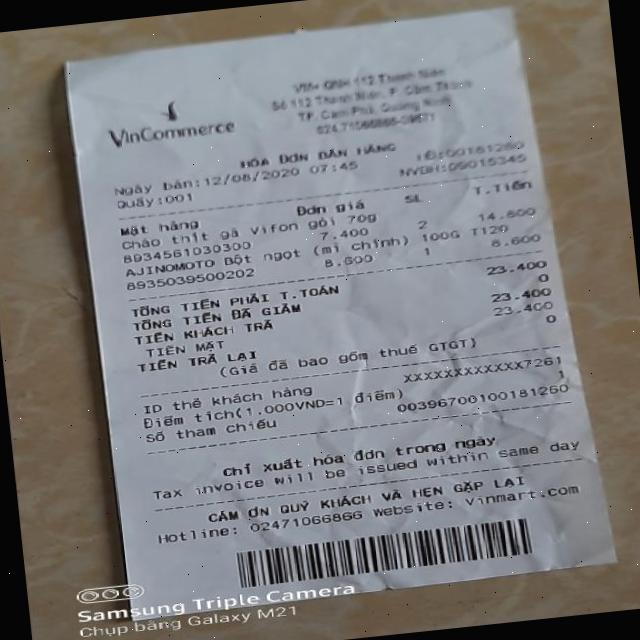Date: (202, 165, 306, 188)
Store_Name: (103, 112, 245, 151)
amount_number: (478, 254, 550, 276)
label_total: (128, 281, 344, 318)
